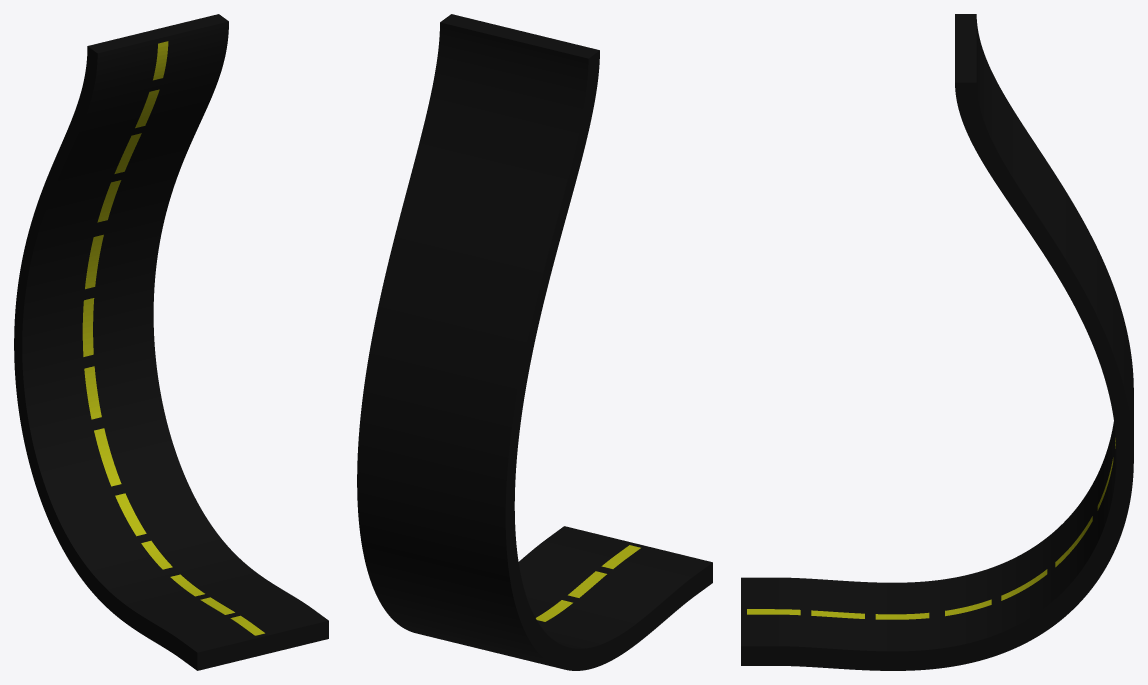
The model's file is RoadCurveUp.fbx.
The picture shows the model from 3 angles, left to right: view 1: azimuth 30°, elevation 25°; view 2: azimuth 150°, elevation 25°; view 3: azimuth 270°, elevation 25°; orthographic projection. The views are drawn at different scales.
Parts seen in each view (by area): view 1: Cube.001; view 2: Cube.001; view 3: Cube.001.
Boxes of the visible parts, bbox=[...] form: Cube.001: bbox=[14, 14, 328, 670]; Cube.001: bbox=[357, 14, 712, 670]; Cube.001: bbox=[741, 14, 1133, 670].
Size of the model in its own units: 1109 by 4429 by 2679.
